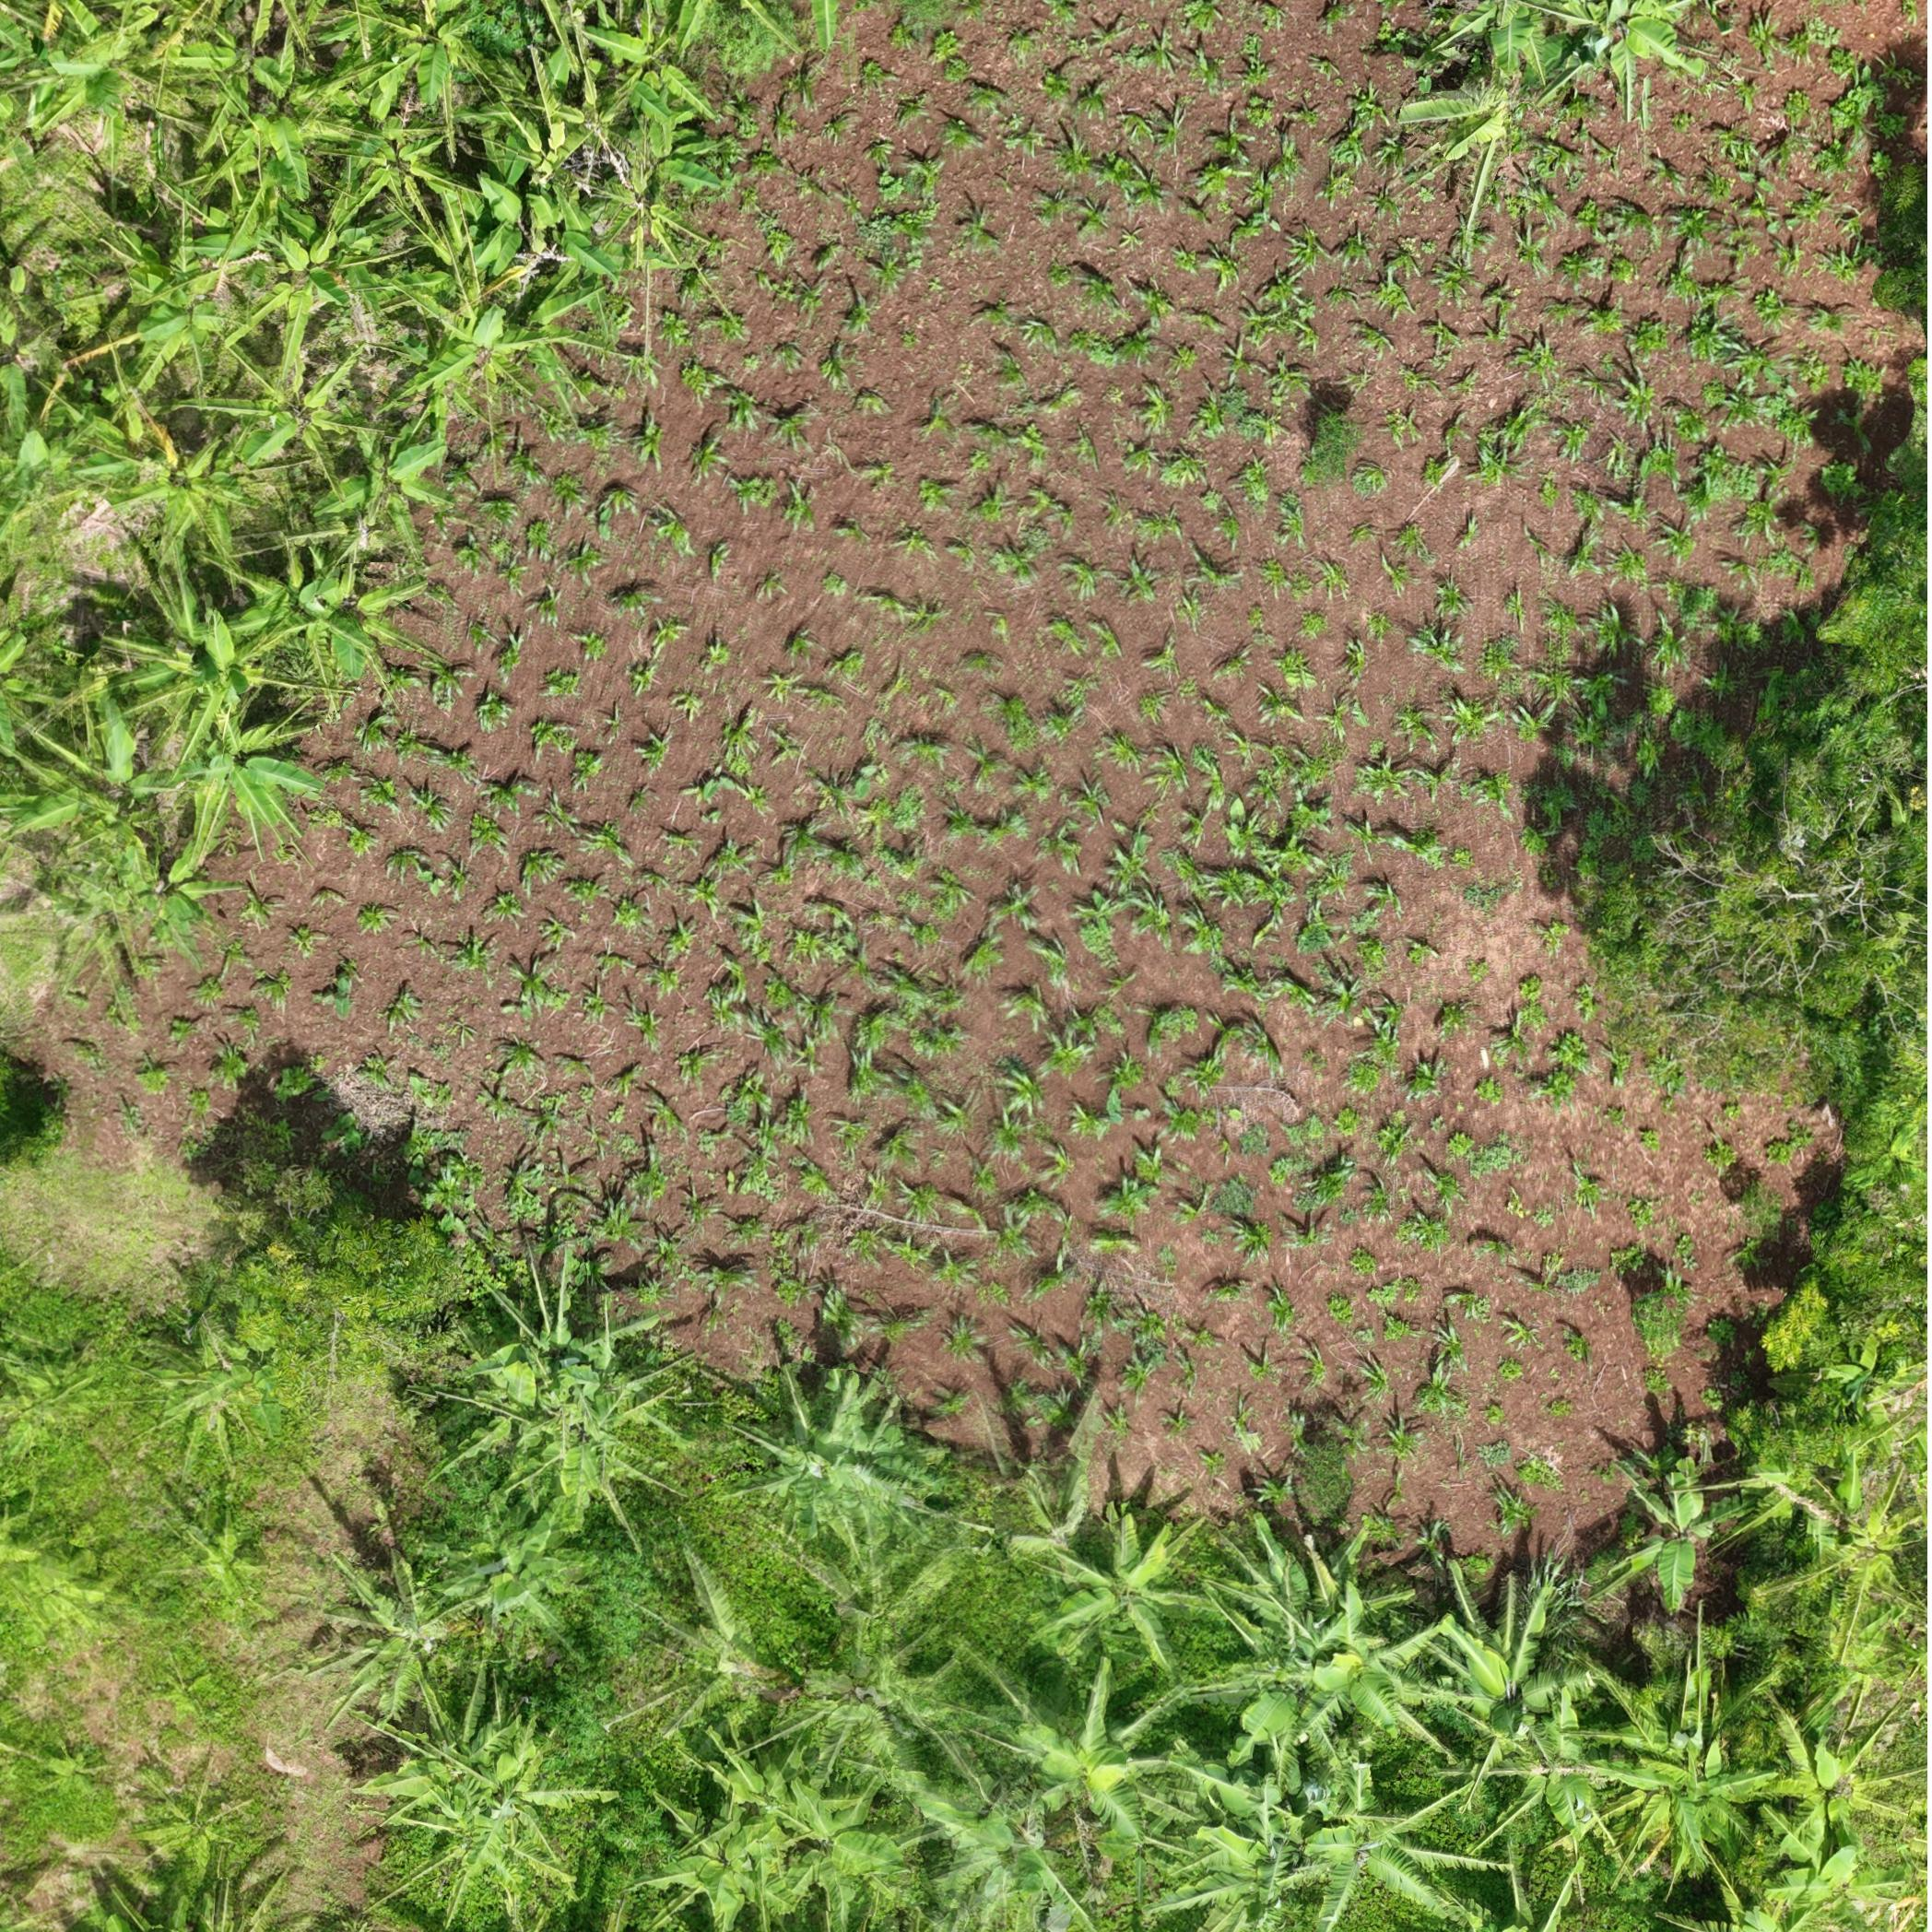Banana: (200, 308, 382, 478), (1435, 2, 1711, 113), (81, 419, 295, 563), (738, 1368, 916, 1539), (1776, 1454, 1916, 1668), (225, 540, 425, 683), (180, 180, 373, 326), (531, 5, 724, 150), (106, 575, 244, 752), (386, 278, 550, 421), (561, 142, 720, 280), (520, 1316, 642, 1495), (370, 260, 536, 382), (198, 73, 345, 202), (7, 872, 142, 1012), (87, 253, 234, 375), (172, 743, 317, 851), (1617, 1468, 1723, 1606), (7, 377, 99, 533), (9, 2, 117, 133), (338, 117, 467, 219), (1399, 67, 1525, 163), (479, 73, 584, 175), (5, 619, 35, 759)
